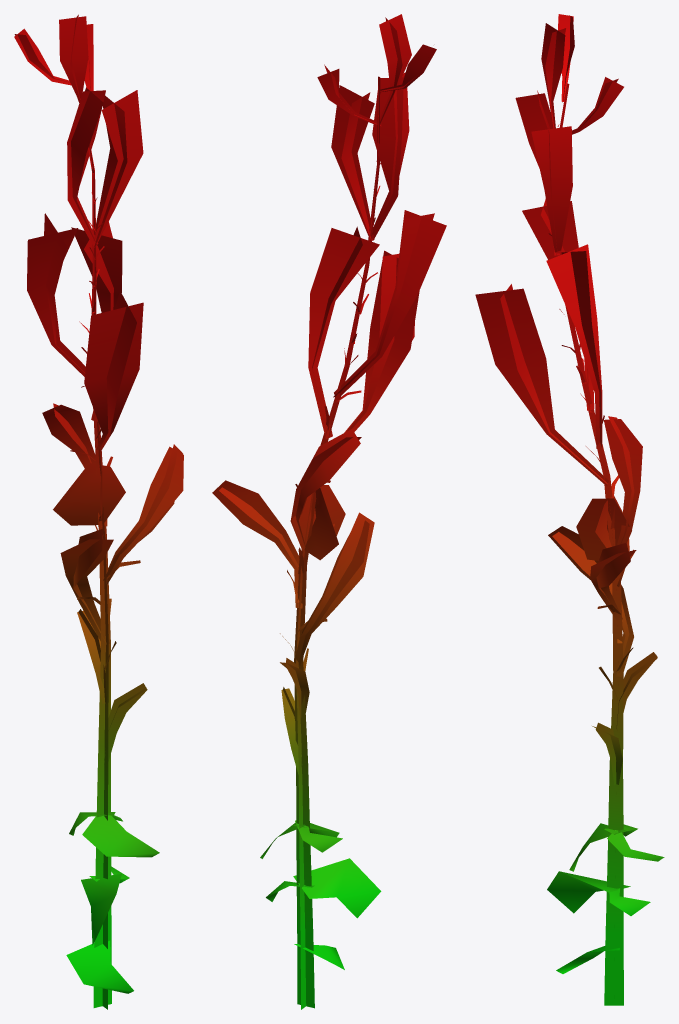
Rendered from Var3_LOD1.fbx.
The picture shows the model from 3 angles, left to right: view 1: azimuth 30°, elevation 25°; view 2: azimuth 150°, elevation 25°; view 3: azimuth 270°, elevation 25°; orthographic projection. The views are drawn at different scales.
Visible parts, largest first — view 1: _bfd3_Var3_LOD1; view 2: _bfd3_Var3_LOD1; view 3: _bfd3_Var3_LOD1.
Boxes of the visible parts, x1=… form: _bfd3_Var3_LOD1: x1=14, y1=14, x2=183, y2=1009; _bfd3_Var3_LOD1: x1=212, y1=14, x2=446, y2=1009; _bfd3_Var3_LOD1: x1=475, y1=14, x2=664, y2=1005.
Bounding box in the file's own units: 27.95 × 136 × 24.42.
